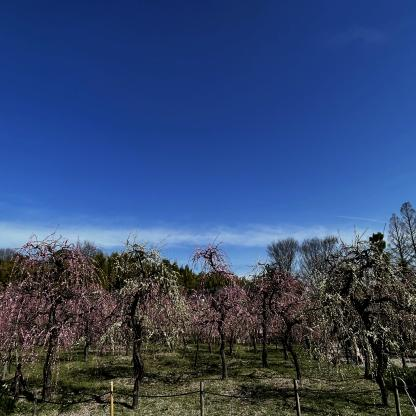Ume: (270, 234, 416, 370), (0, 223, 112, 384), (165, 232, 280, 357), (78, 229, 178, 352)
